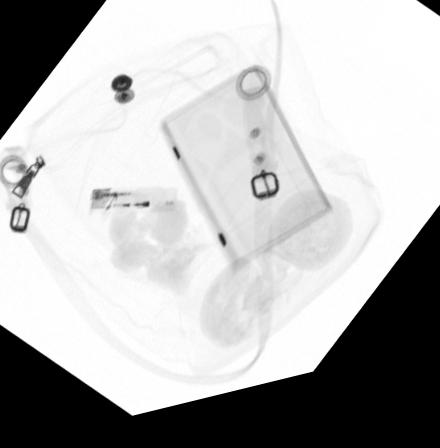Lighter: (87, 190, 177, 218)
